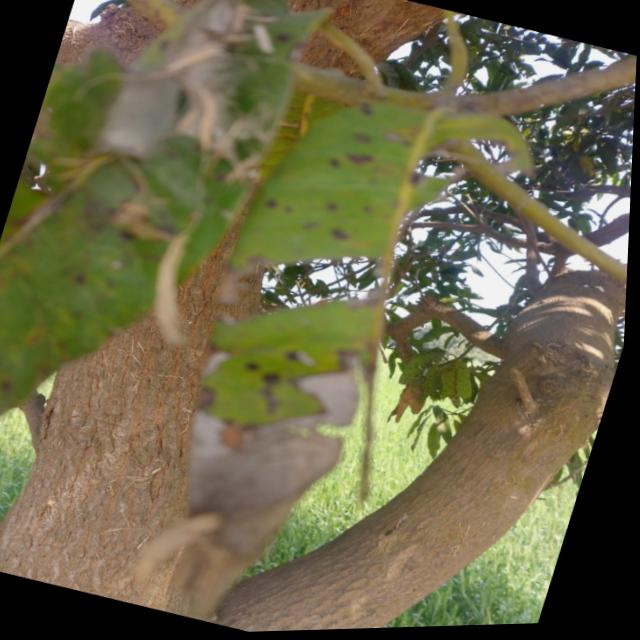Anthracnose: (321, 143, 375, 177), (350, 124, 380, 149), (260, 190, 289, 211), (323, 223, 348, 243), (325, 200, 341, 212)
Bacterial Cancer: (165, 323, 379, 537)
